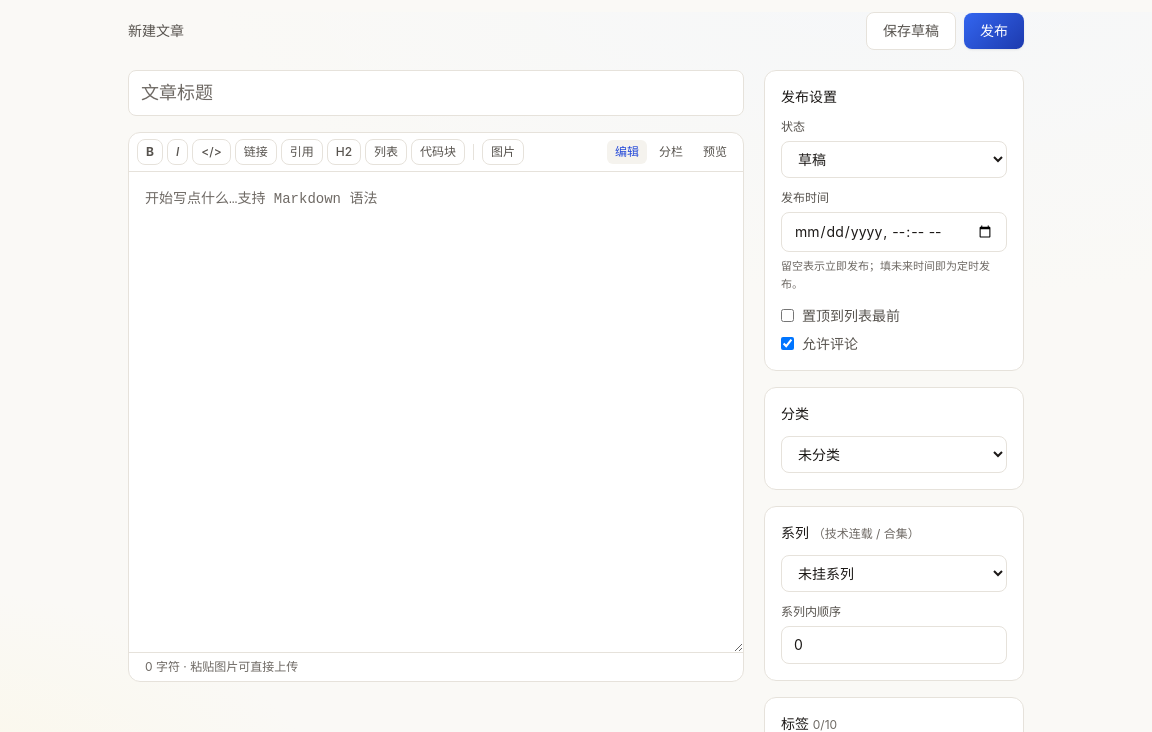
Test: ArticleEditView · 保存 › 新建页「发布」后状态与按钮文案一起切到已发布（作者能确认到底发出去没有）
The image size is (1152, 732).
Step 1. Type "要发布的文章" into the field named "文章标题" → point(436, 93), box [128, 70, 744, 116]
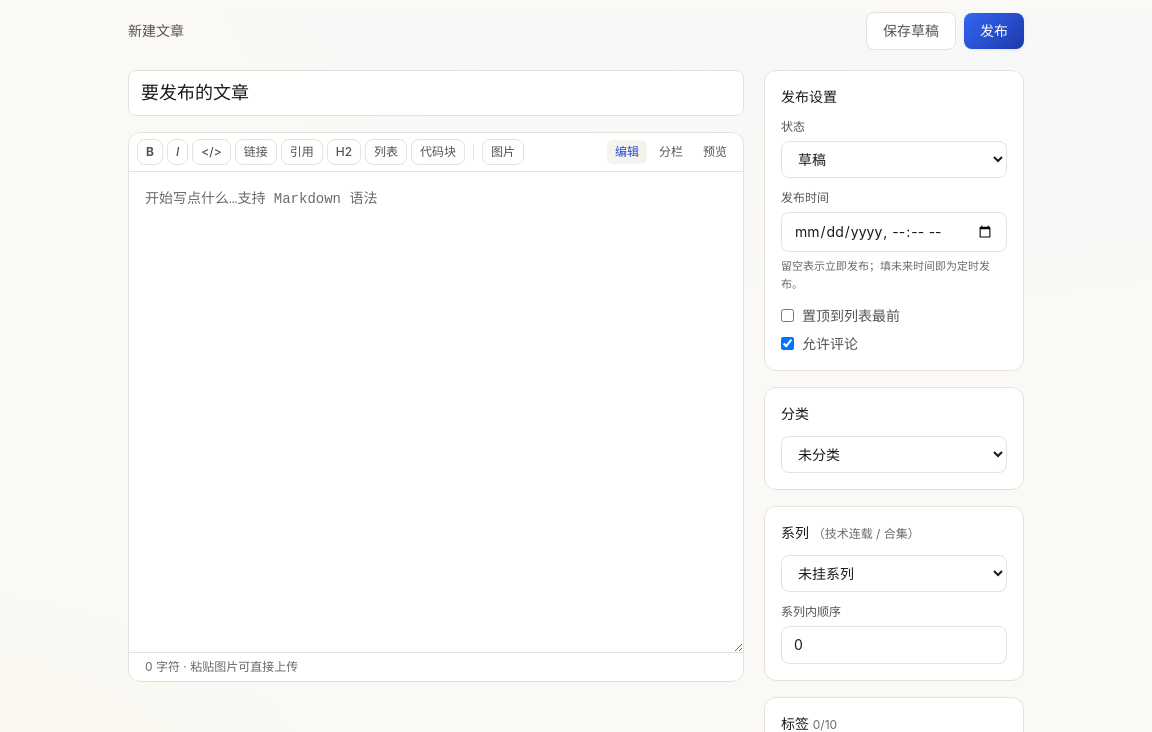
Step 2. Click the button "发布" → point(994, 31), box [964, 13, 1024, 49]
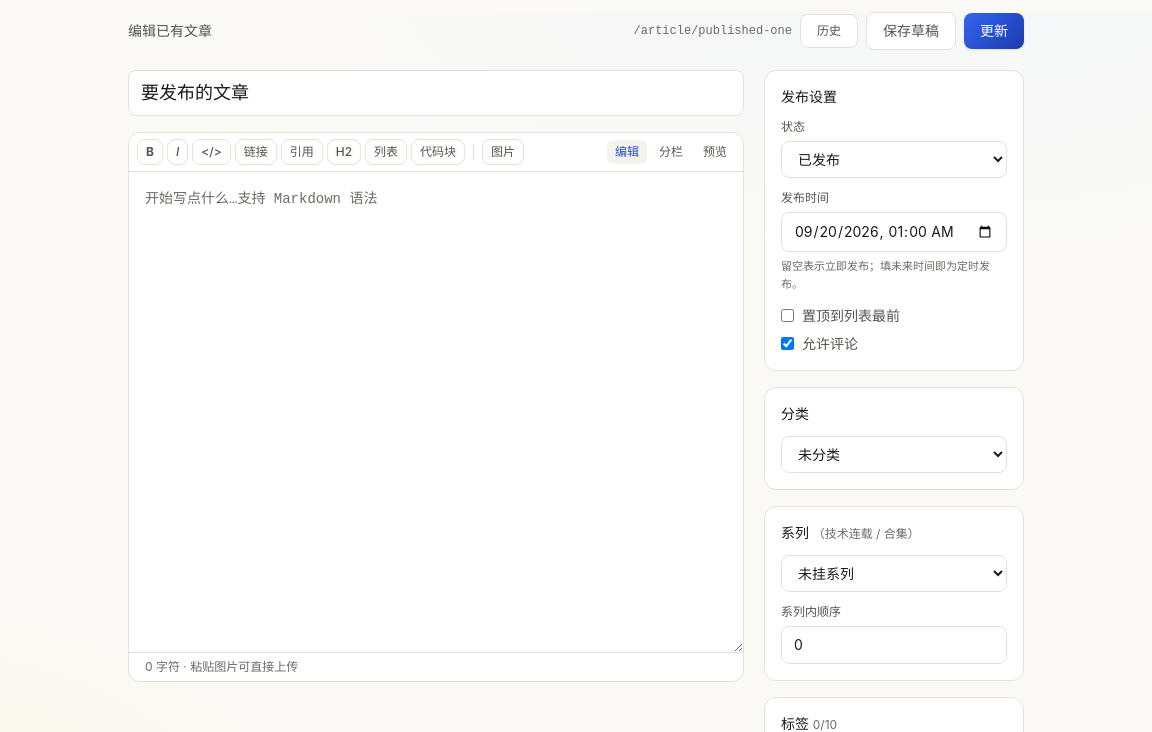
Expected: the dropdown labelled "状态" shows "已发布", [781, 141, 1007, 178]
